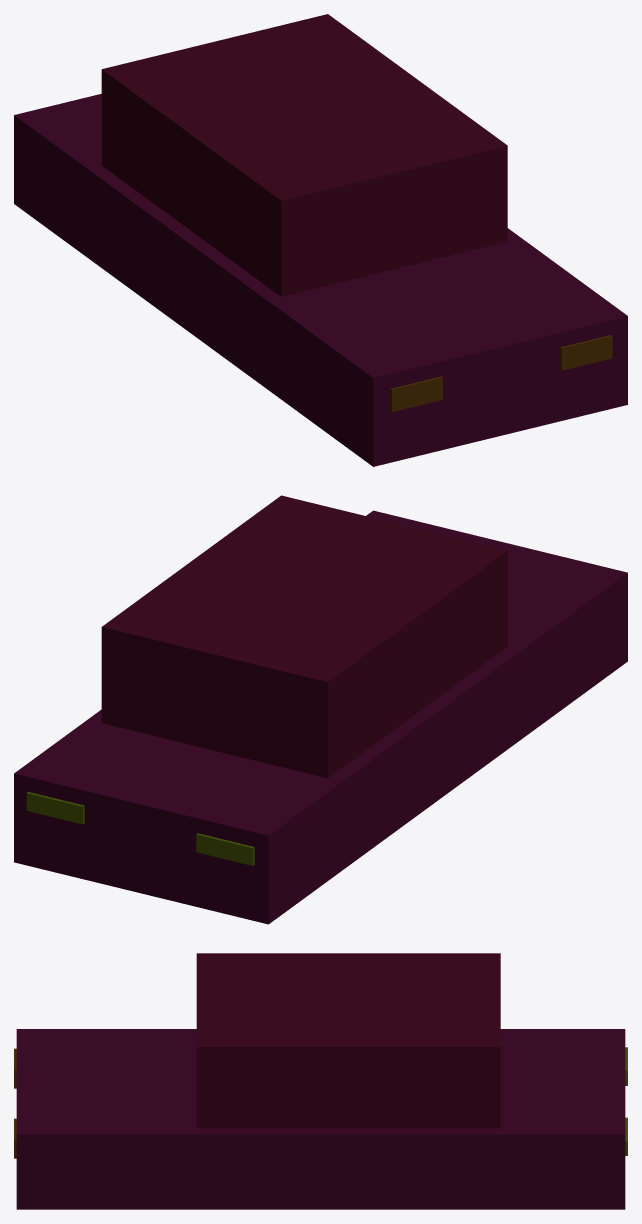
File: car_a.glb
The picture shows the model from 3 angles, top to bottom: view 1: azimuth 30°, elevation 25°; view 2: azimuth 150°, elevation 25°; view 3: azimuth 270°, elevation 25°; orthographic projection. The views are drawn at different scales.
Parts seen in each view (by area): view 1: car_a; view 2: car_a; view 3: car_a.
Boxes of the visible parts, x1=… form: car_a: x1=14, y1=14, x2=627, y2=466; car_a: x1=14, y1=495, x2=627, y2=924; car_a: x1=14, y1=953, x2=627, y2=1209.
Size of the model in its own units: 1.8 by 1.25 by 4.44.
